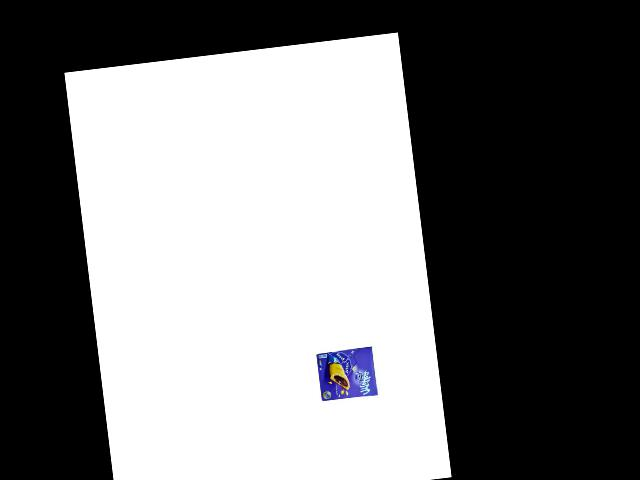chocolate: (312, 344, 381, 405)
